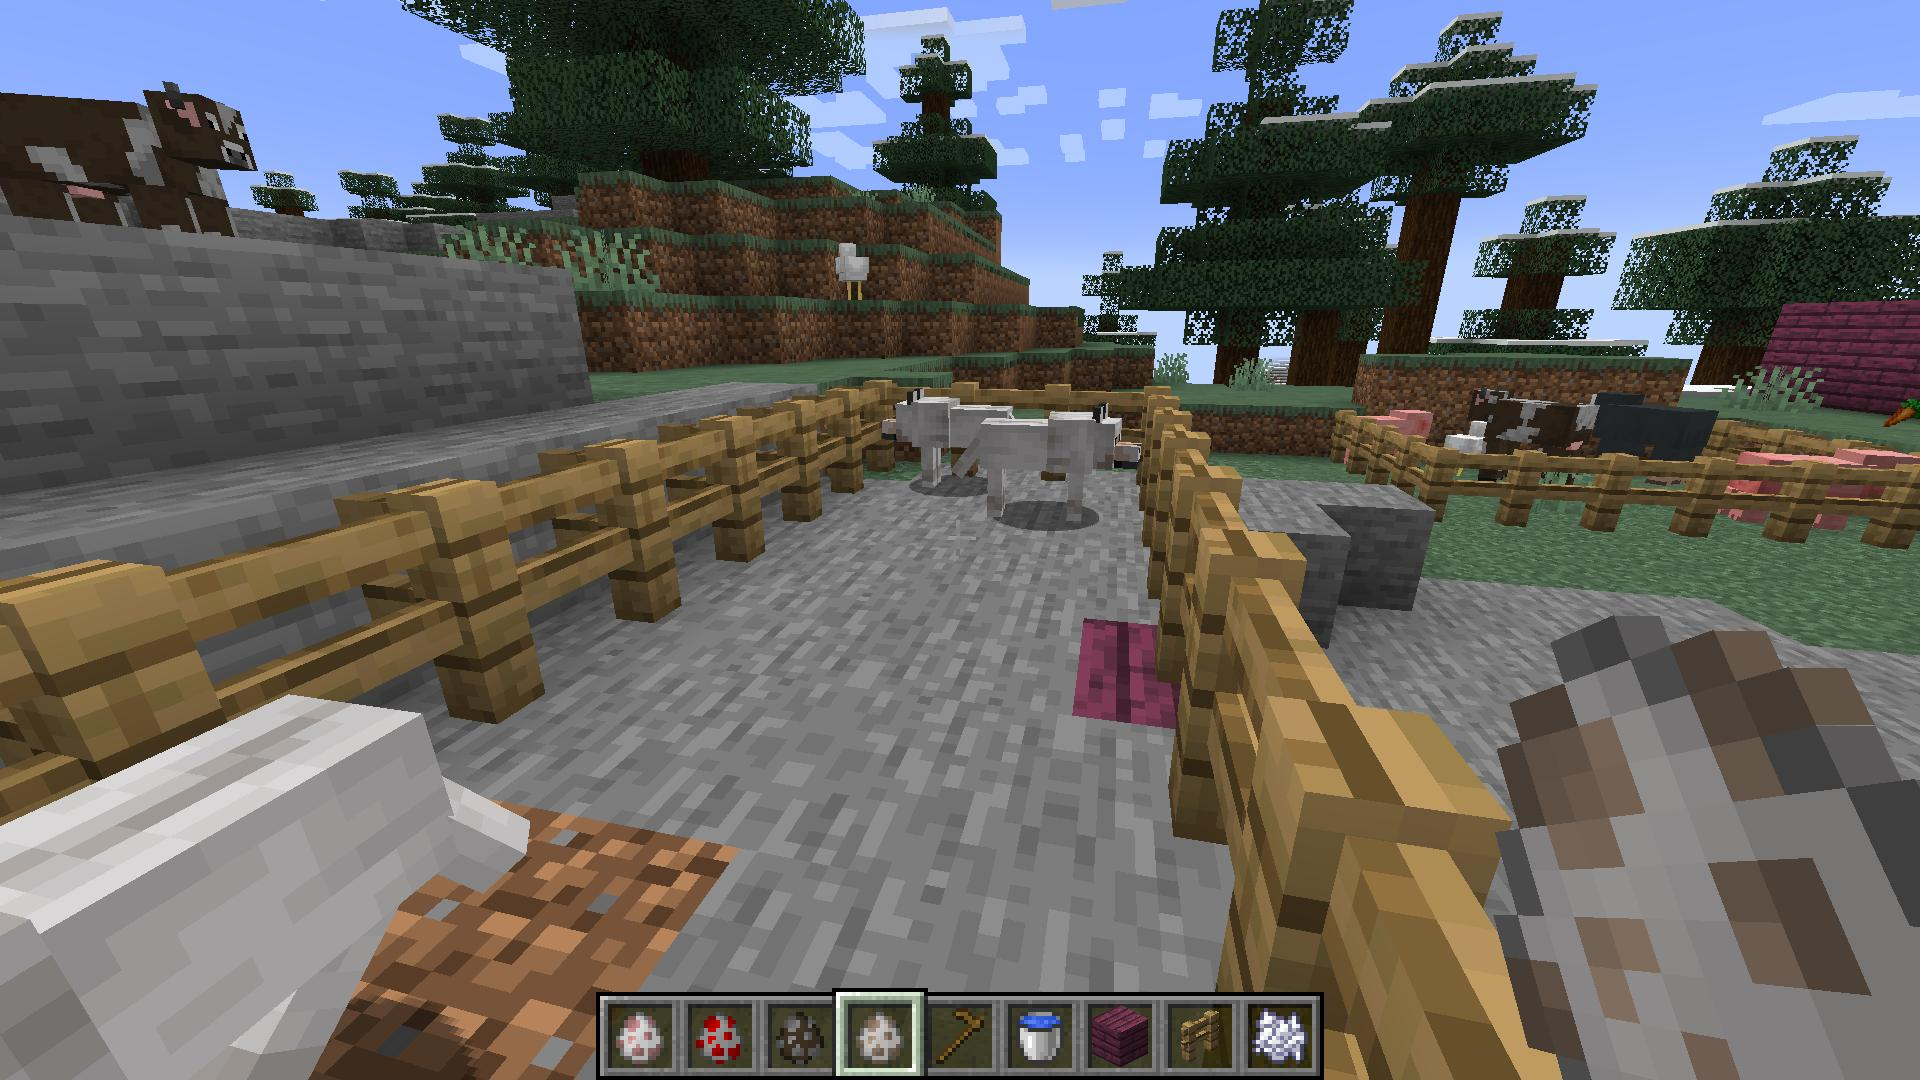chicken: (806, 227, 881, 309)
wolf: (955, 405, 1131, 522), (885, 393, 1005, 495)
